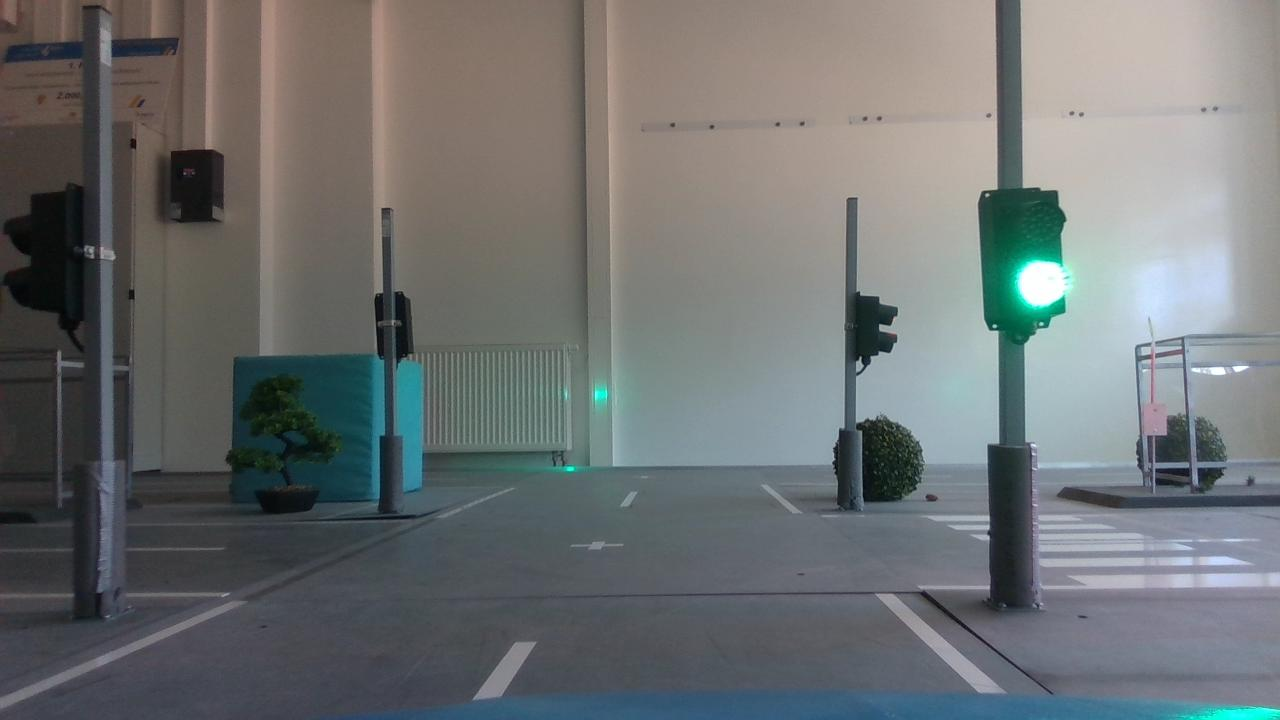traffic_light_green: (963, 174, 1086, 341)
